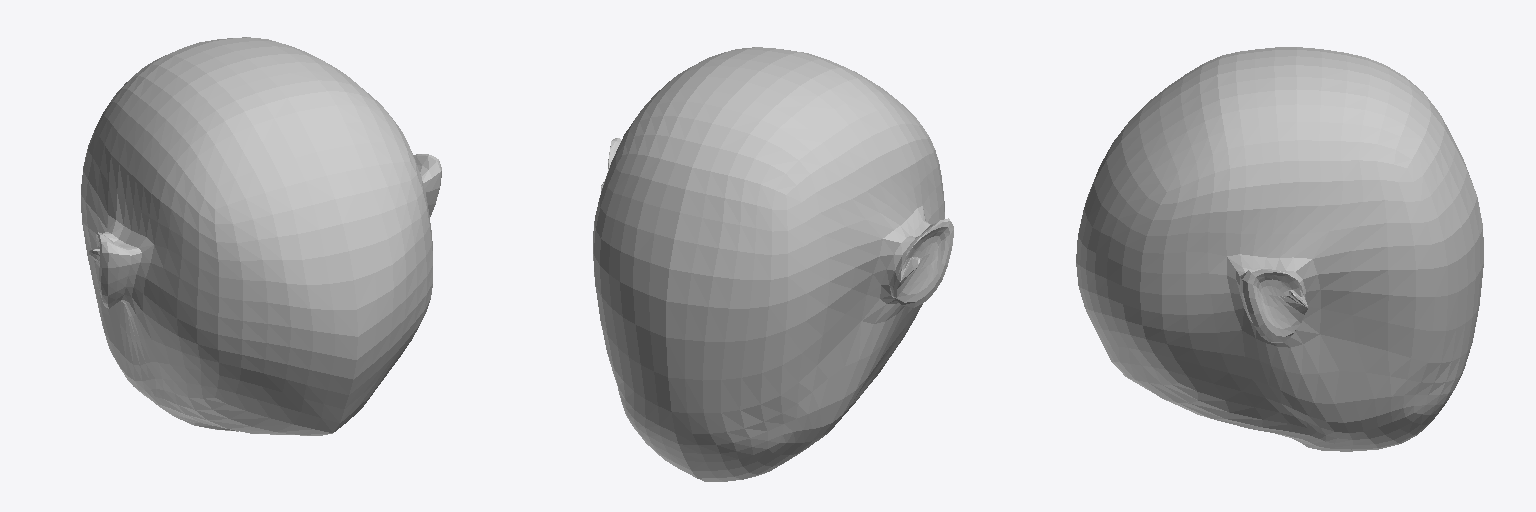
File: head_with_ears.obj
3 renders of one model, left to right at view 1: azimuth 30°, elevation 25°; view 2: azimuth 150°, elevation 25°; view 3: azimuth 270°, elevation 25°, orthographic.
Parts seen in each view (by area): view 1: HEAD_SIMPLEEAR_Cube.001; view 2: HEAD_SIMPLEEAR_Cube.001; view 3: HEAD_SIMPLEEAR_Cube.001.
Part boxes in pixels (x1,y1,x2,y2): HEAD_SIMPLEEAR_Cube.001: (81, 37, 441, 435); HEAD_SIMPLEEAR_Cube.001: (593, 47, 953, 481); HEAD_SIMPLEEAR_Cube.001: (1076, 47, 1483, 451).
Bounding box in the file's own units: 3.06 × 3.29 × 3.18.